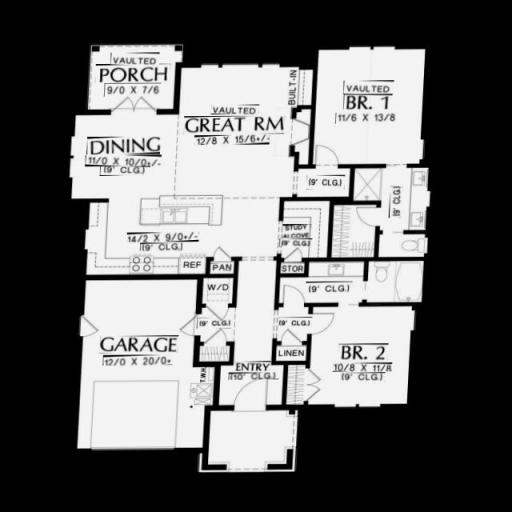bedroom: (311, 302, 418, 413), (337, 48, 419, 166)
garage: (88, 278, 194, 442)
hall: (188, 56, 306, 186)
porch: (91, 34, 182, 109)
